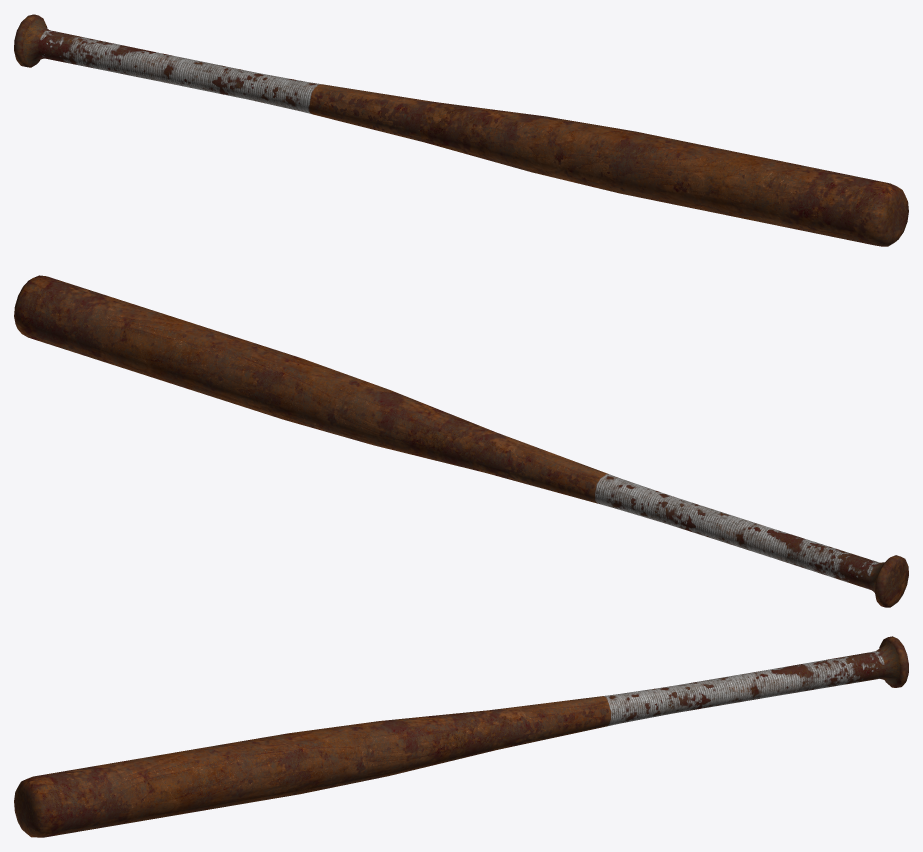
File: Anim_idle_bate_objetos.0018.obj
3 views of the same model, one above another, from view 1: azimuth 30°, elevation 25°; view 2: azimuth 210°, elevation 25°; view 3: azimuth 270°, elevation 25° (orthographic). The views are drawn at different scales.
Parts seen in each view (by area): view 1: Bate1; view 2: Bate1; view 3: Bate1.
Part boxes in pixels (x1,y1,x2,y2): Bate1: (14, 14, 908, 246); Bate1: (14, 275, 908, 607); Bate1: (14, 636, 908, 837).
Size of the model in its own units: 2.75 by 0.5936 by 4.81.
